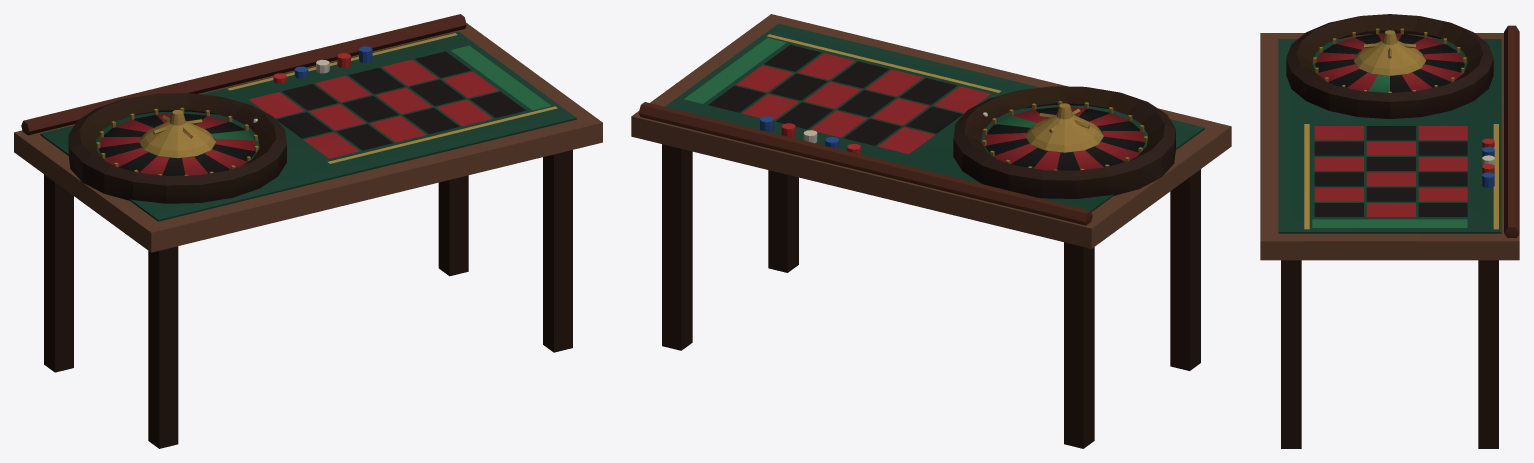
The model's file is table_roulette.glb.
The picture shows the model from 3 angles, left to right: view 1: azimuth 30°, elevation 25°; view 2: azimuth 150°, elevation 25°; view 3: azimuth 270°, elevation 25°; orthographic projection. The views are drawn at different scales.
Parts seen in each view (by area): view 1: table_roulette, roulette_wheel; view 2: table_roulette, roulette_wheel; view 3: table_roulette, roulette_wheel.
Boxes of the visible parts, box(x1,y1,x2,y2) form: table_roulette: box(14, 14, 602, 448); roulette_wheel: box(96, 107, 258, 175); table_roulette: box(631, 14, 1231, 448); roulette_wheel: box(982, 101, 1147, 170); table_roulette: box(1260, 14, 1519, 448); roulette_wheel: box(1313, 28, 1466, 92).
Size of the model in its own units: 1.9 by 1.11 by 1.
